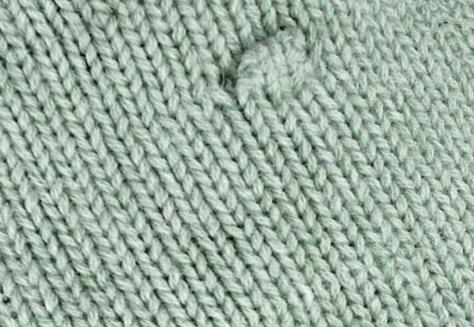knot: (232, 26, 312, 104)
